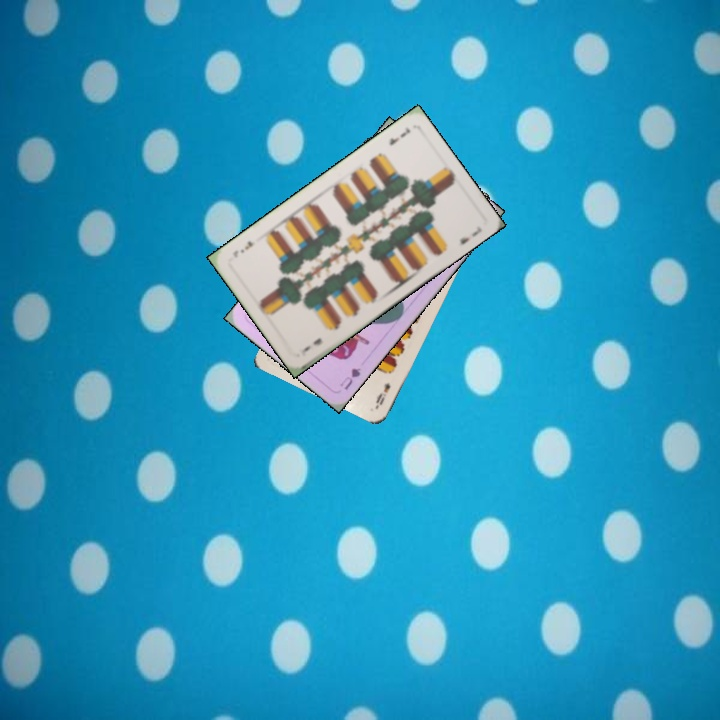E7: (297, 334, 325, 359), (385, 123, 413, 148)
E9: (372, 378, 393, 410)
GU: (336, 364, 363, 393)
